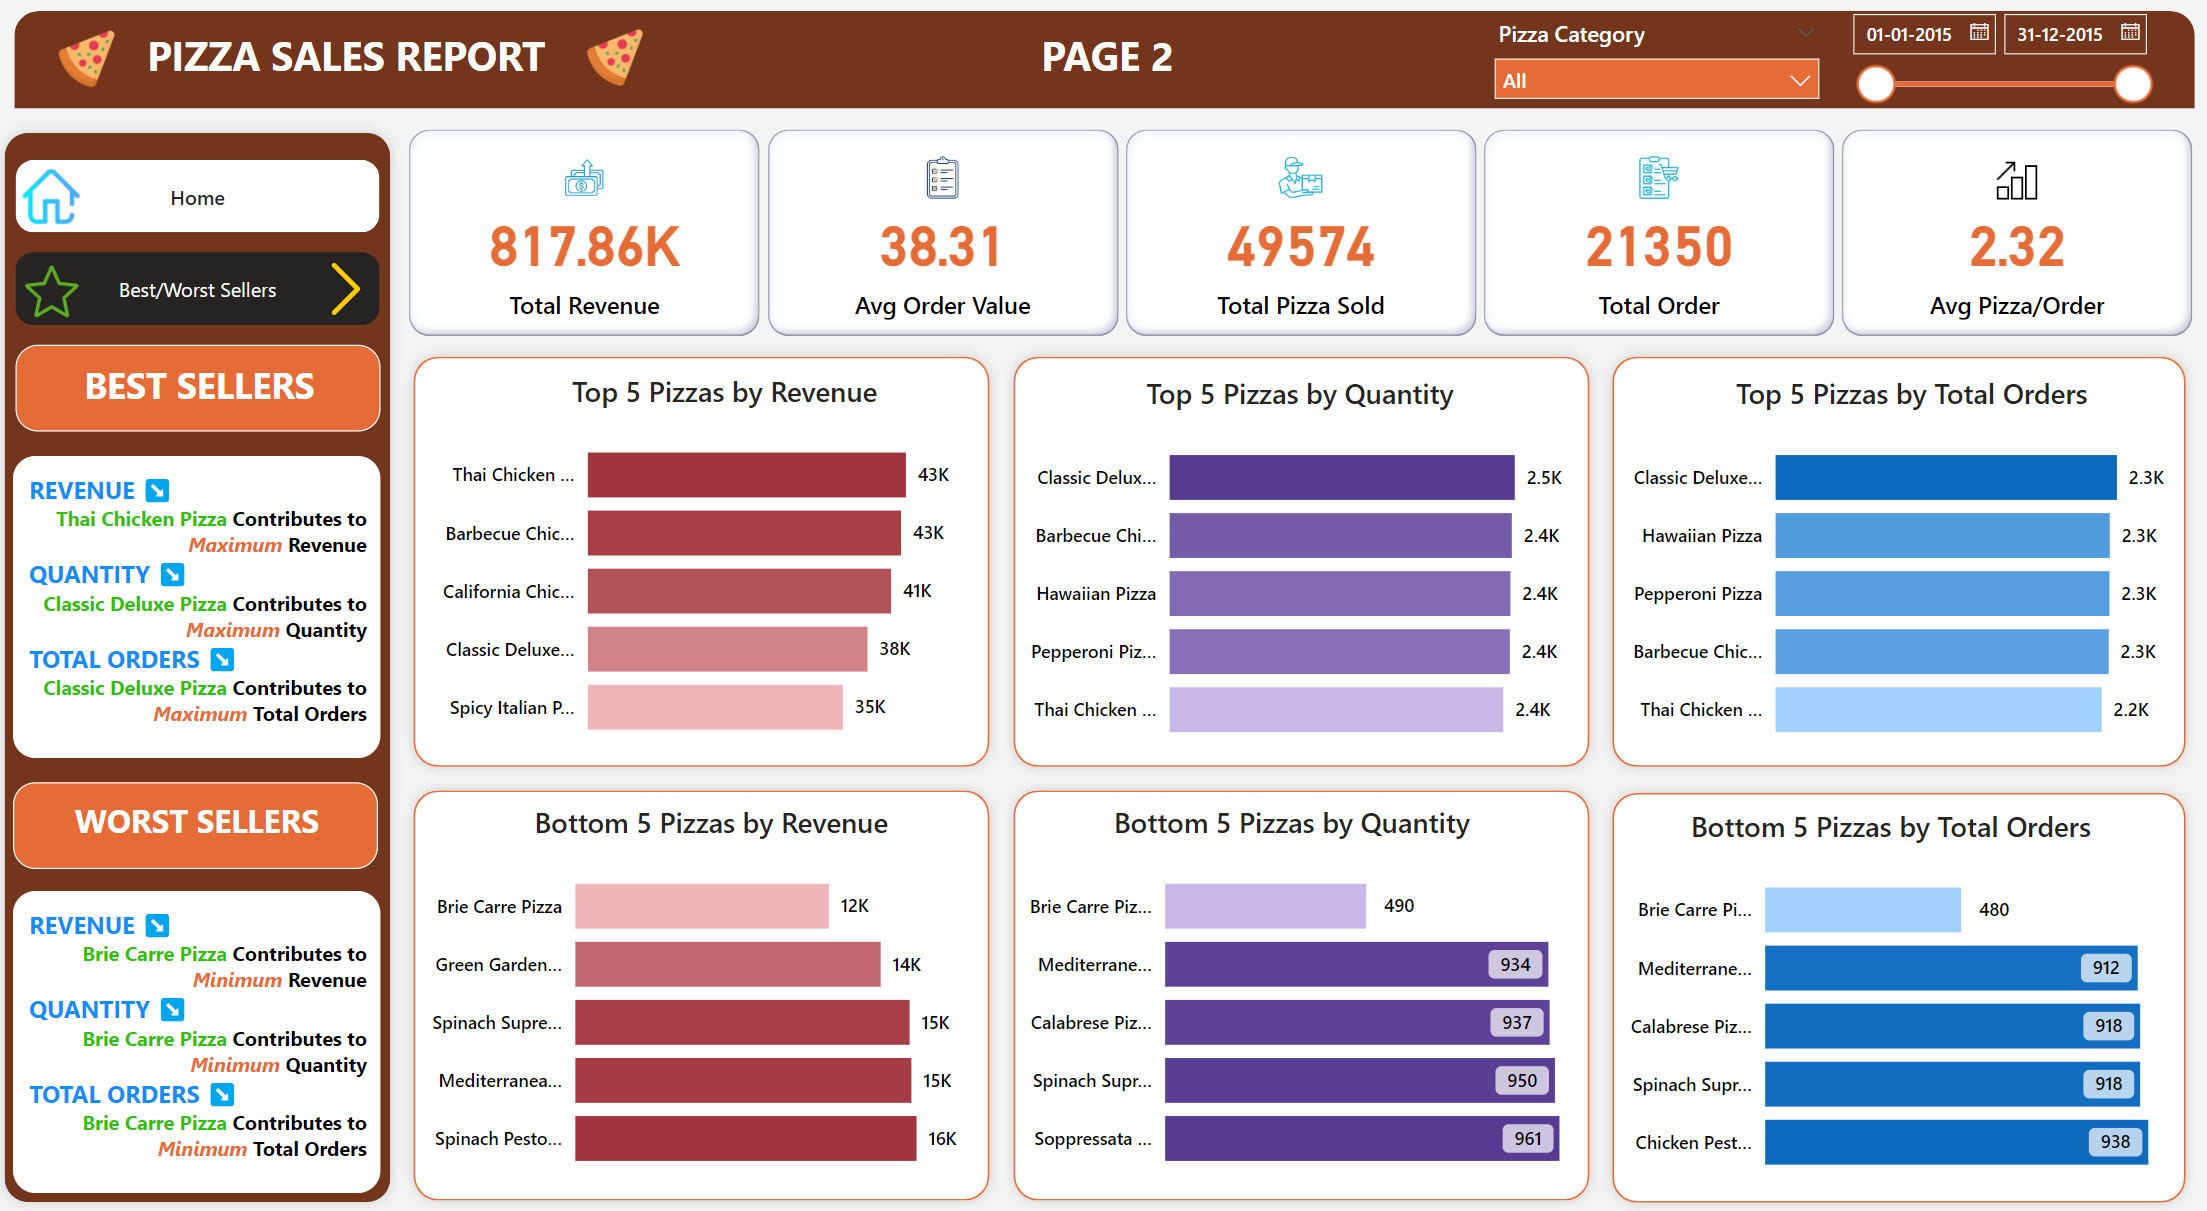

Layout of this report page (visuals, bound fields, positions):
{"tool":"powerbi","page":{"name":"Best/Worst Sellers","canvas":[1500,820],"ordinal":1},"visuals":[{"type":"cardVisual","fields":{"Data":["key_measures.Total_Revenue","key_measures.Avg_Order_Value","key_measures.Total_Pizza_Sold","key_measures.Total_Order","key_measures.Avg_Pizza_Per_Order"]},"box":[274.8,85.1,1211.8,149.8],"z":0},{"type":"shape","box":[14.3,10,1467.1,65.7],"z":1000},{"type":"image","box":[20.4,17.7,86,48.8],"z":2000},{"type":"shape","box":[275,235,403.3,292],"z":3000},{"type":"shape","box":[0,84,275.2,735.4],"z":4000},{"type":"slicer","fields":{"Values":["pizza_sales.pizza_category"]},"box":[1000,10,238.6,65.7],"z":5000},{"type":"slicer","fields":{"Values":["pizza_sales.order_date"]},"box":[1238.4,1.8,222.5,73.6],"z":6000},{"type":"shape","box":[678.3,235,403.3,292],"z":7000},{"type":"shape","box":[1081.7,235,401.7,292],"z":8000},{"type":"shape","box":[275,526.7,403.3,292],"z":9000},{"type":"shape","box":[678.3,526.7,403.3,292],"z":10000},{"type":"shape","box":[1081.7,528.3,401.7,291.7],"z":11000},{"type":"barChart","title":"Top 5 Pizzas by Revenue","fields":{"Category":["pizza_sales.pizza_name"],"Y":["key_measures.Total_Revenue"]},"box":[283.7,253.2,417.6,261.8],"z":12000},{"type":"barChart","title":"Bottom 5 Pizzas by Revenue","fields":{"Category":["pizza_sales.pizza_name"],"Y":["key_measures.Total_Revenue"]},"box":[275.2,543,416.4,261.8],"z":13000},{"type":"barChart","title":"Top 5 Pizzas by Quantity","fields":{"Category":["pizza_sales.pizza_name"],"Y":["key_measures.Total_Pizza_Sold"]},"box":[678.2,254.5,403,261.8],"z":14000},{"type":"barChart","title":"Bottom 5 Pizzas by Quantity","fields":{"Category":["pizza_sales.pizza_name"],"Y":["key_measures.Total_Pizza_Sold"]},"box":[678.2,543,392,261.8],"z":15000},{"type":"barChart","title":"Top 5 Pizzas by Total Orders","fields":{"Category":["pizza_sales.pizza_name"],"Y":["key_measures.Total_Order"]},"box":[1081.2,254.5,418.8,261.8],"z":16000},{"type":"barChart","title":"Bottom 5 Pizzas by Total Orders","fields":{"Category":["pizza_sales.pizza_name"],"Y":["key_measures.Total_Order"]},"box":[1081.2,545.5,390.8,261.8],"z":17000},{"type":"textbox","box":[89.5,16.8,297,48.8],"z":18000},{"type":"image","box":[386.5,16.8,62.9,48.8],"z":19000},{"type":"textbox","box":[601.5,17,297.1,48.7],"z":20000},{"type":"textbox","box":[15.2,234.8,245.9,58],"z":21000},{"type":"textbox","box":[13.8,529,245.9,58],"z":22000},{"type":"textbox","box":[13.8,309.4,247.2,203],"z":23000},{"type":"textbox","box":[13.8,602.2,247.2,203],"z":24000},{"type":"pageNavigator","box":[15.2,110.5,245.9,49.7],"z":25000},{"type":"pageNavigator","box":[15.2,172.7,245.9,49.7],"z":26000},{"type":"image","box":[214.1,174,45.6,45.6],"z":27000},{"type":"image","box":[15.2,175.4,48.3,45.6],"z":28000},{"type":"image","box":[15.2,110.5,48.3,49.7],"z":29000}]}

Visuals, with their boxes in screenshot pixels (x1, y1, x2, y2), scaled from the page's 1500x820 canvas onto the 2207x1211 screenshot:
cardVisual - key_measures.Total_Revenue x key_measures.Avg_Order_Value: 404, 126, 2187, 347
shape: 21, 15, 2180, 112
image: 30, 26, 157, 98
shape: 405, 347, 998, 778
shape: 0, 124, 405, 1210
slicer - pizza_sales.pizza_category: 1471, 15, 1822, 112
slicer - pizza_sales.order_date: 1822, 3, 2149, 111
shape: 998, 347, 1591, 778
shape: 1592, 347, 2183, 778
shape: 405, 778, 998, 1209
shape: 998, 778, 1591, 1209
shape: 1592, 780, 2183, 1210
"Top 5 Pizzas by Revenue" barChart: 417, 374, 1032, 761
"Bottom 5 Pizzas by Revenue" barChart: 405, 802, 1018, 1189
"Top 5 Pizzas by Quantity" barChart: 998, 376, 1591, 762
"Bottom 5 Pizzas by Quantity" barChart: 998, 802, 1575, 1189
"Top 5 Pizzas by Total Orders" barChart: 1591, 376, 2206, 762
"Bottom 5 Pizzas by Total Orders" barChart: 1591, 806, 2166, 1192
textbox: 132, 25, 569, 97
image: 569, 25, 661, 97
textbox: 885, 25, 1322, 97
textbox: 22, 347, 384, 432
textbox: 20, 781, 382, 867
textbox: 20, 457, 384, 757
textbox: 20, 889, 384, 1189
pageNavigator: 22, 163, 384, 237
pageNavigator: 22, 255, 384, 328
image: 315, 257, 382, 324
image: 22, 259, 93, 326
image: 22, 163, 93, 237
